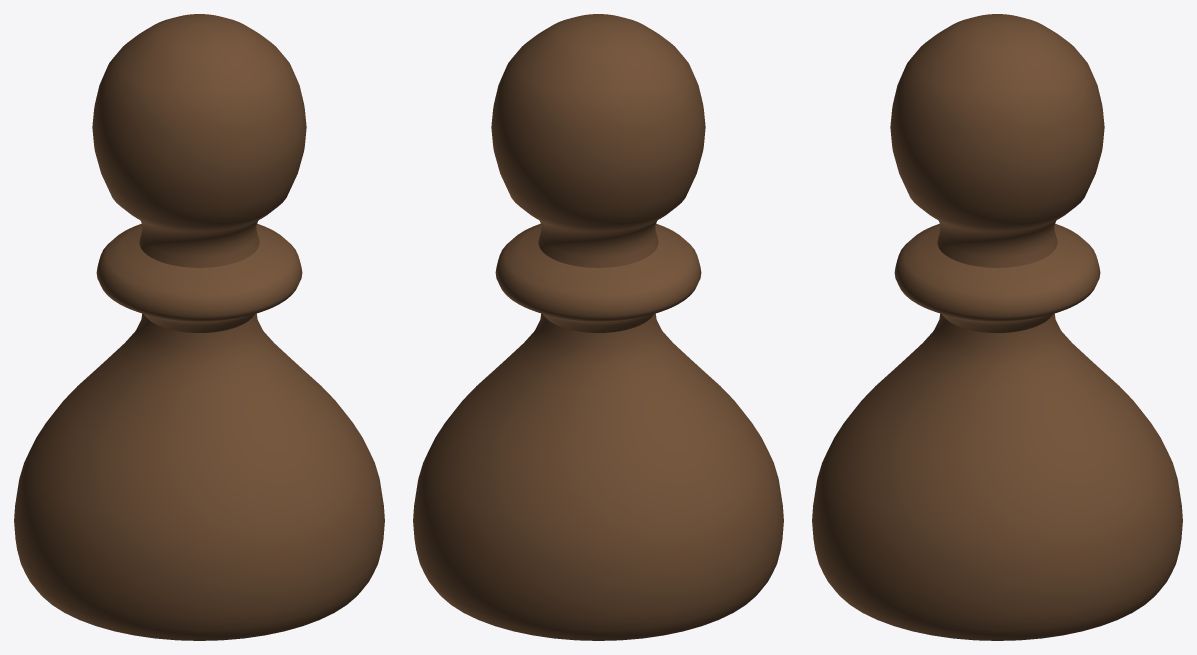
Rendered from black-pawn.glb.
3 renders of one model, left to right at view 1: azimuth 30°, elevation 25°; view 2: azimuth 150°, elevation 25°; view 3: azimuth 270°, elevation 25°, orthographic.
Visible parts, largest first — view 1: black-pawn.001; view 2: black-pawn.001; view 3: black-pawn.001.
Part boxes in pixels (<box>): black-pawn.001: <box>14,14,384,640</box>; black-pawn.001: <box>413,14,783,640</box>; black-pawn.001: <box>812,14,1182,640</box>.
Size of the model in its own units: 0.556 by 0.9 by 0.556.
